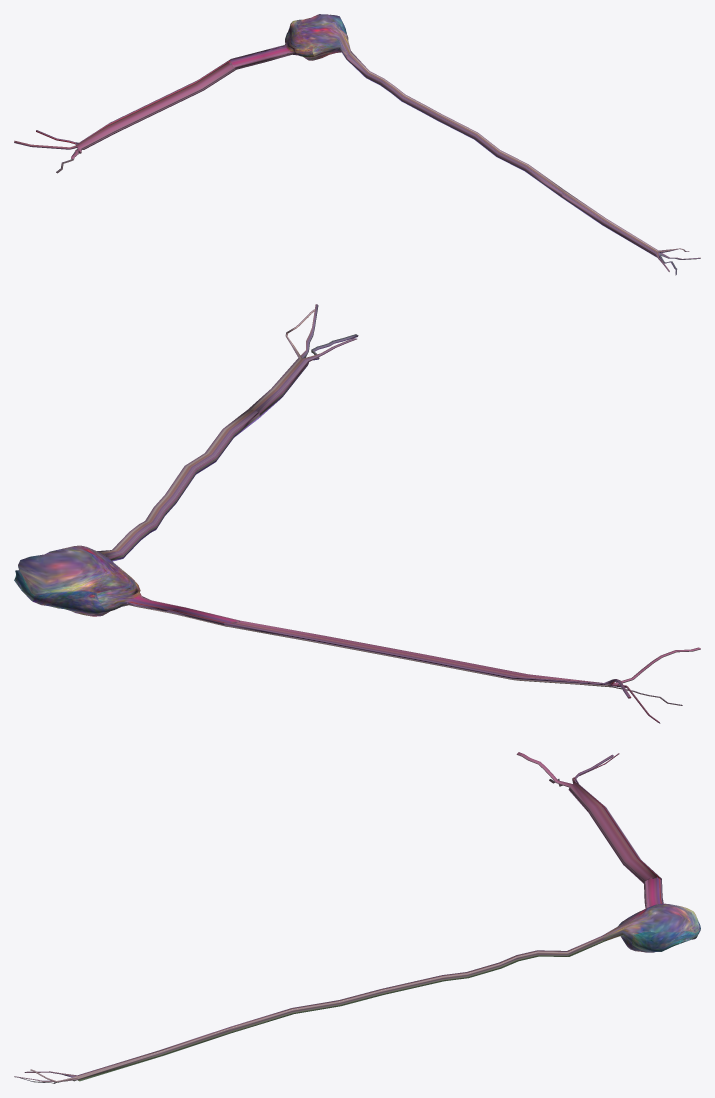
File: lastneuron19.fbx
3 renders of one model, top to bottom at view 1: azimuth 30°, elevation 25°; view 2: azimuth 150°, elevation 25°; view 3: azimuth 270°, elevation 25°, orthographic. The views are drawn at different scales.
Parts seen in each view (by area): view 1: done2 duplicted. ex; view 2: done2 duplicted. ex; view 3: done2 duplicted. ex.
Boxes of the visible parts, left/top/right/bottom form: done2 duplicted. ex: left=14, top=14, right=700, bottom=275; done2 duplicted. ex: left=14, top=304, right=700, bottom=723; done2 duplicted. ex: left=14, top=752, right=700, bottom=1083.
Bounding box in the file's own units: 97875 × 18984 × 106156.
